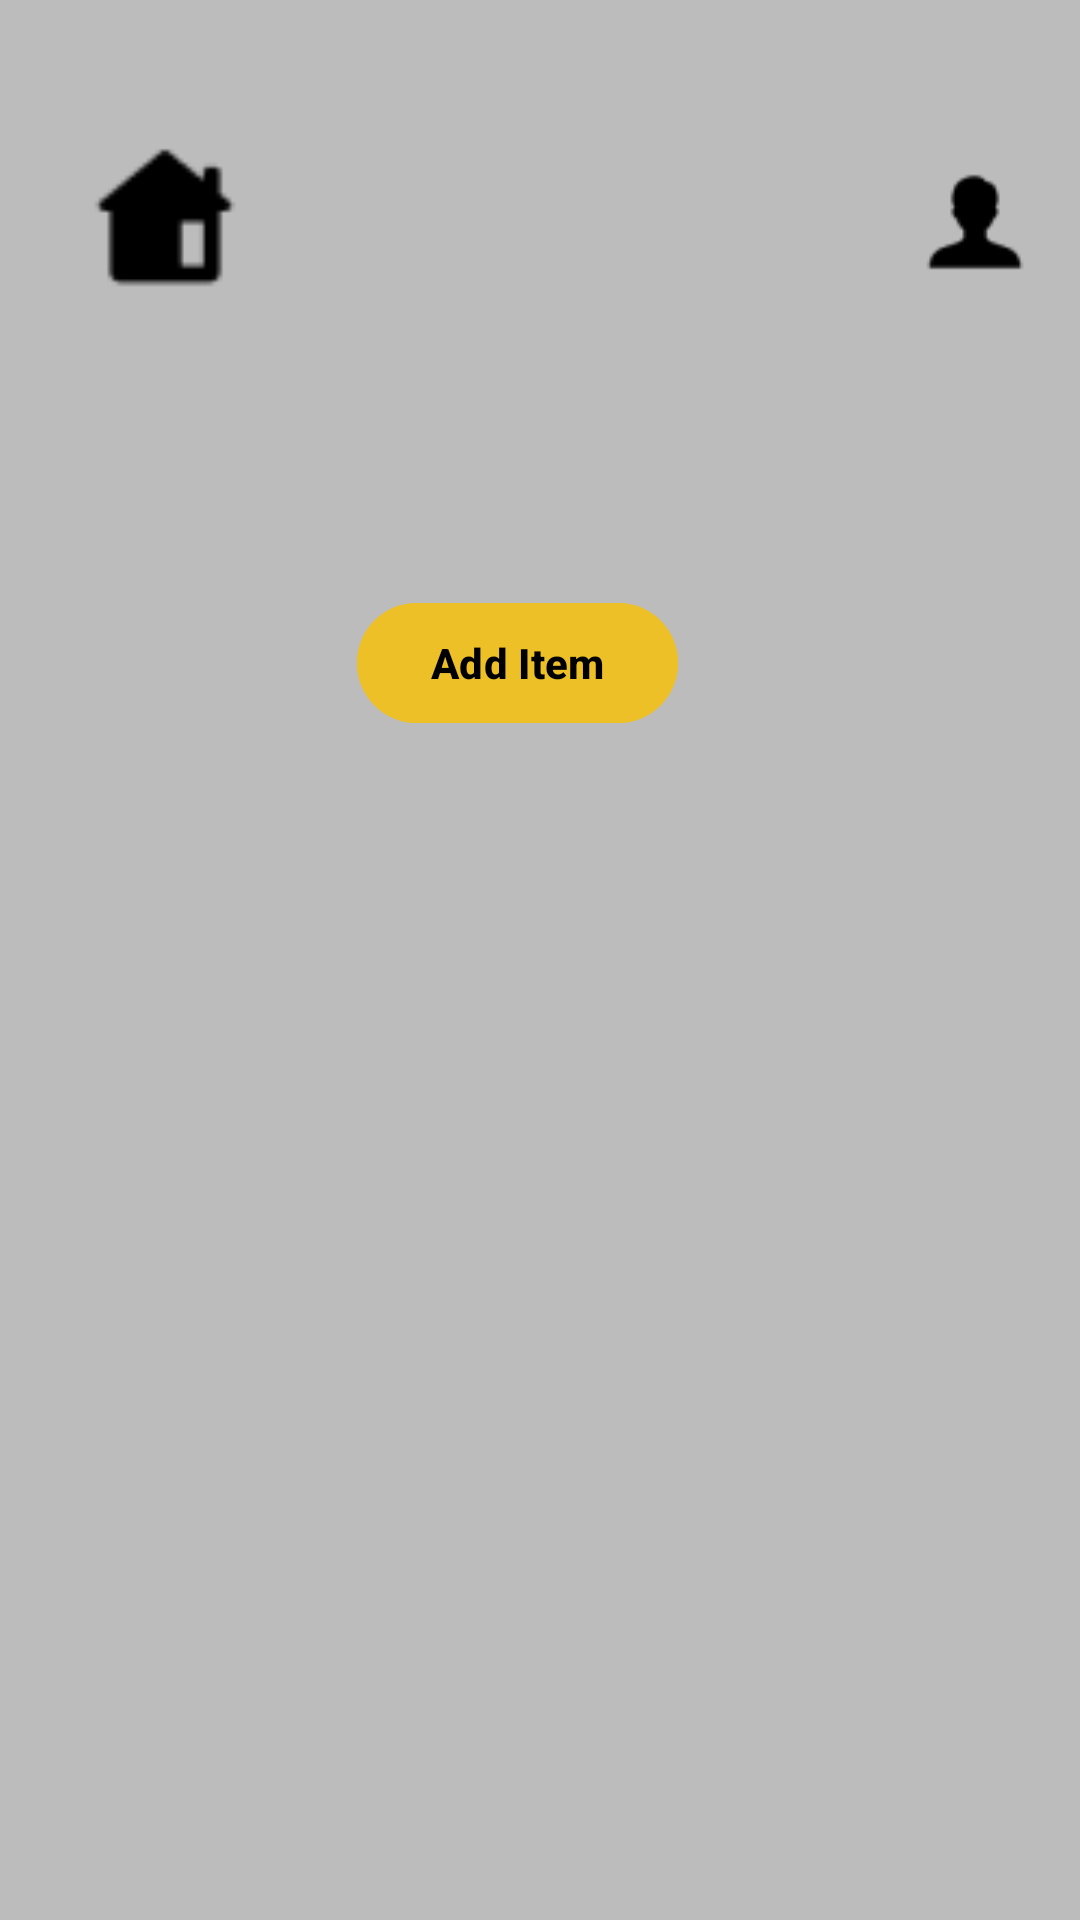

Screen size 1080 x 1920. Icon name, then its box in pixels as (x1, y1, x2, y2):
home: (96, 149, 234, 286)
user male: (928, 175, 1022, 269)
